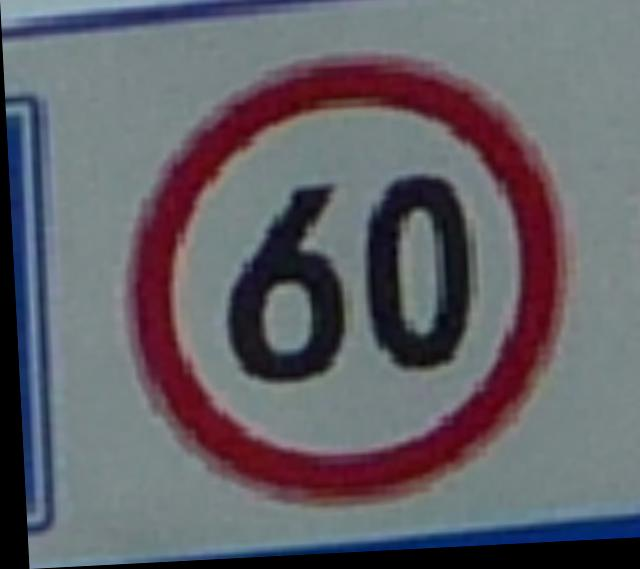limit60: (93, 27, 591, 528)
